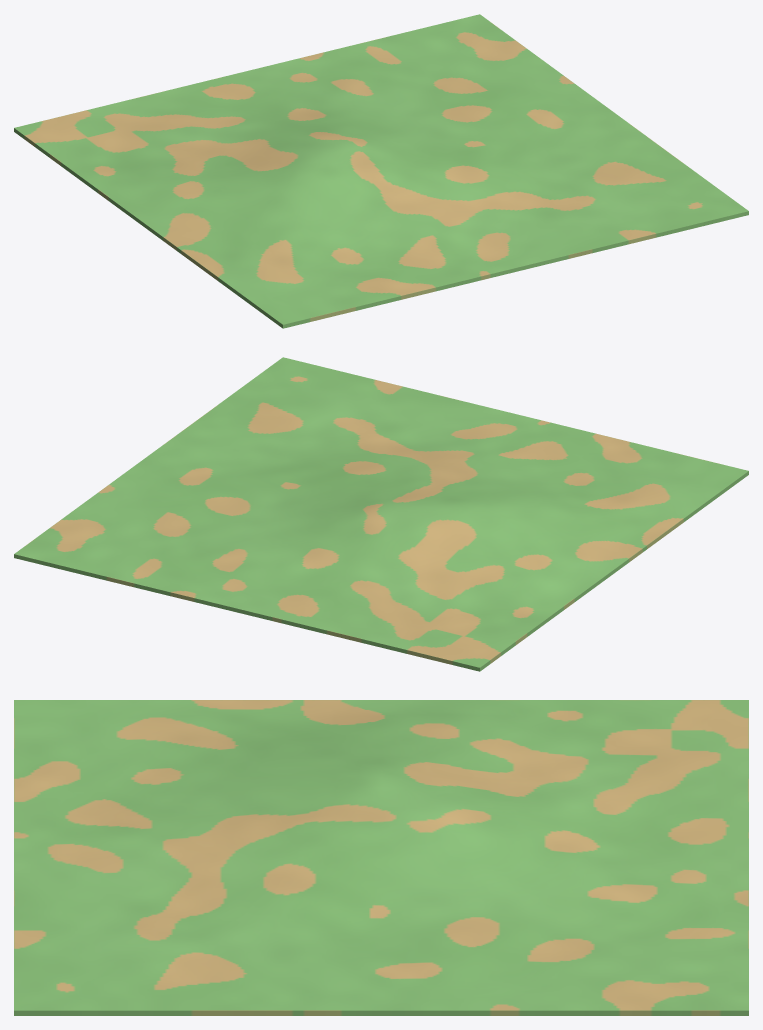
The model's file is Grass_Flat_03.obj.
3 views of the same model, one above another, from view 1: azimuth 30°, elevation 25°; view 2: azimuth 150°, elevation 25°; view 3: azimuth 270°, elevation 25° (orthographic). The views are drawn at different scales.
Size of the model in its own units: 10 by 0.521 by 10.
1 material, 1 textured.
